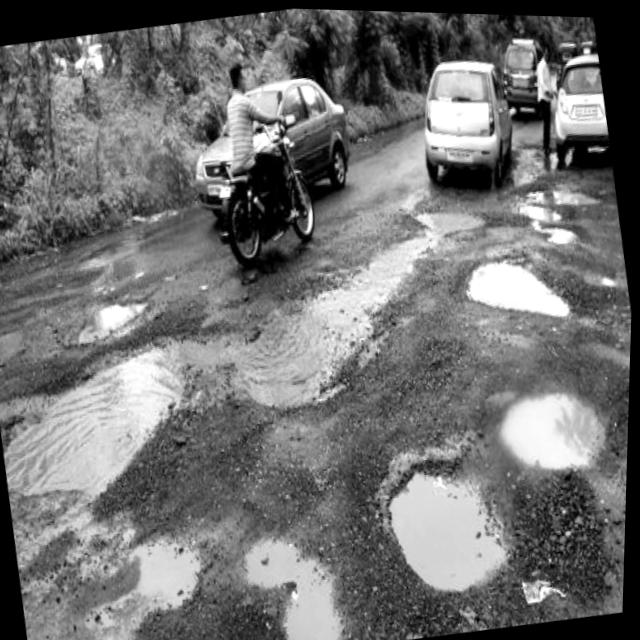pathole: (7, 210, 483, 499), (395, 469, 510, 588), (97, 539, 205, 640), (248, 537, 346, 640), (503, 389, 605, 465), (469, 258, 570, 313), (519, 185, 600, 241), (81, 305, 148, 344), (0, 332, 32, 366), (526, 577, 569, 601), (599, 343, 632, 367), (589, 272, 624, 284)
